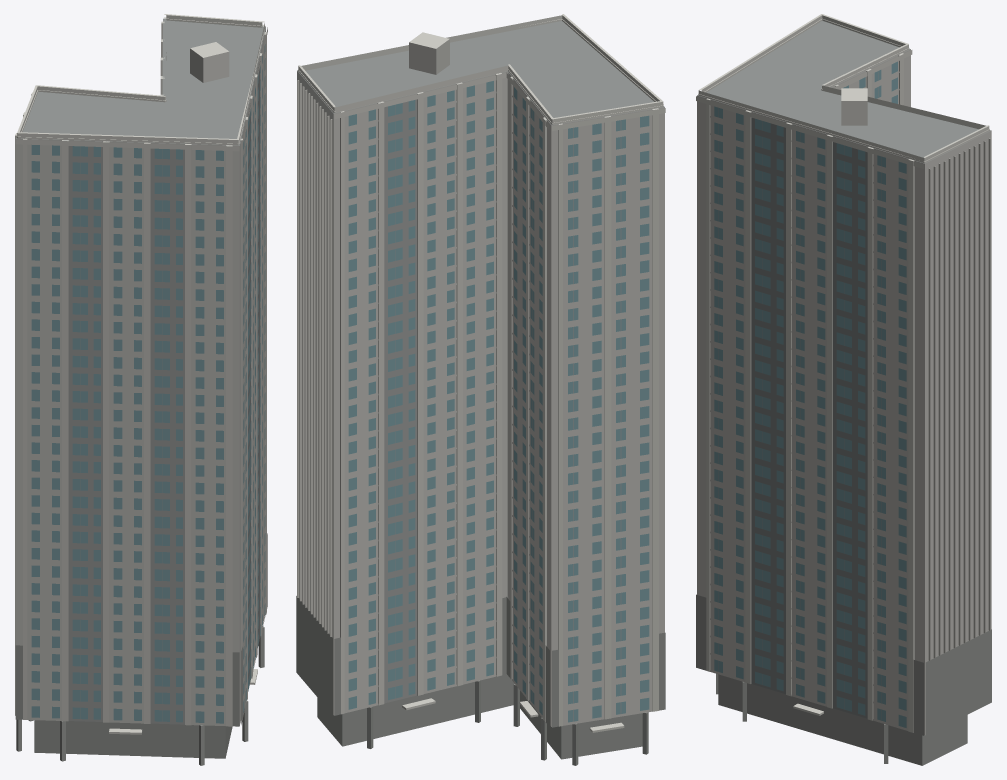
The model's file is maple-xi-103.glb.
The picture shows the model from 3 angles, left to right: view 1: azimuth 30°, elevation 25°; view 2: azimuth 150°, elevation 25°; view 3: azimuth 270°, elevation 25°; orthographic projection. The views are drawn at different scales.
Parts seen in each view (by area): view 1: maple-xi-103; view 2: maple-xi-103; view 3: maple-xi-103.
Boxes of the visible parts, x1,y1,x2,y2 form: maple-xi-103: [15, 14, 267, 765]; maple-xi-103: [296, 14, 665, 765]; maple-xi-103: [696, 14, 991, 765].
Size of the model in its own units: 55.95 by 113 by 47.86.
